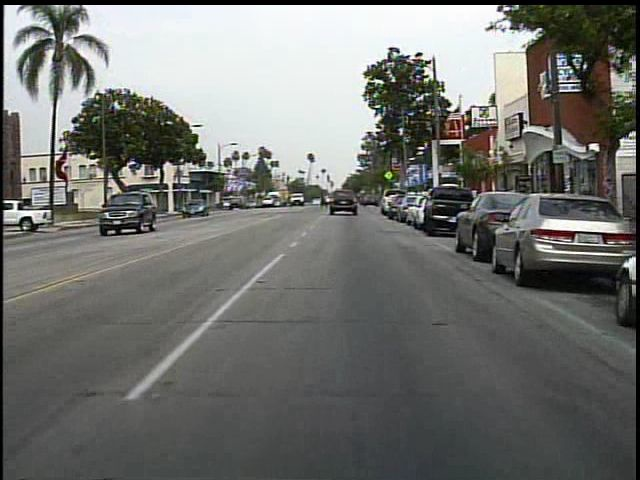person: (320, 188, 332, 216)
